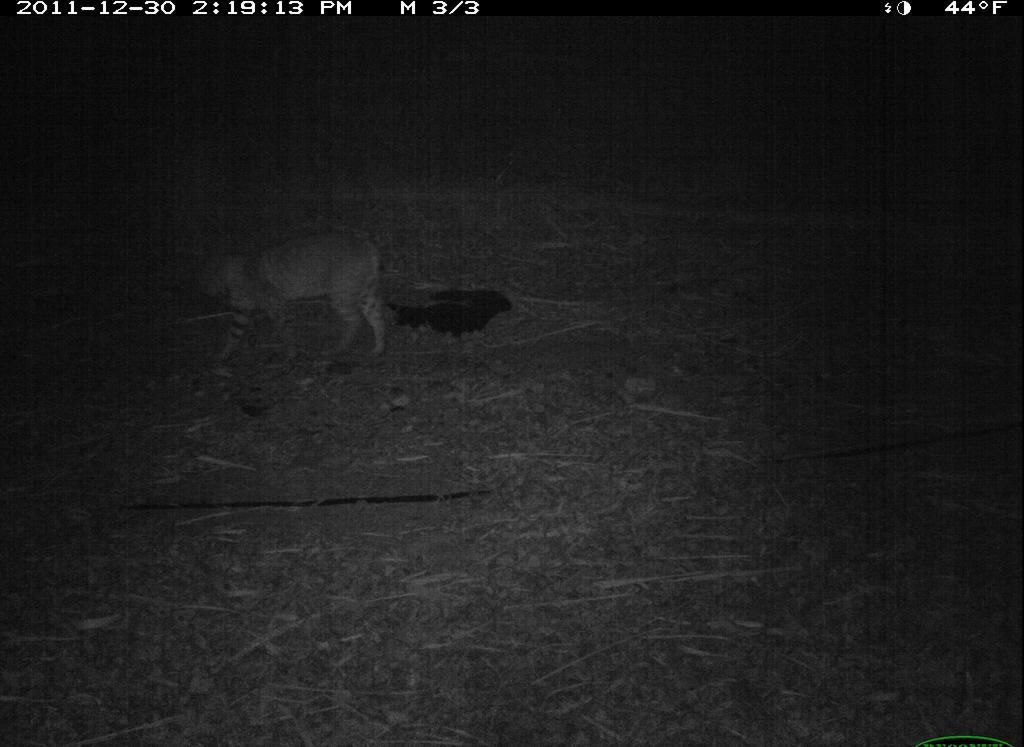bobcat: (193, 227, 411, 369)
